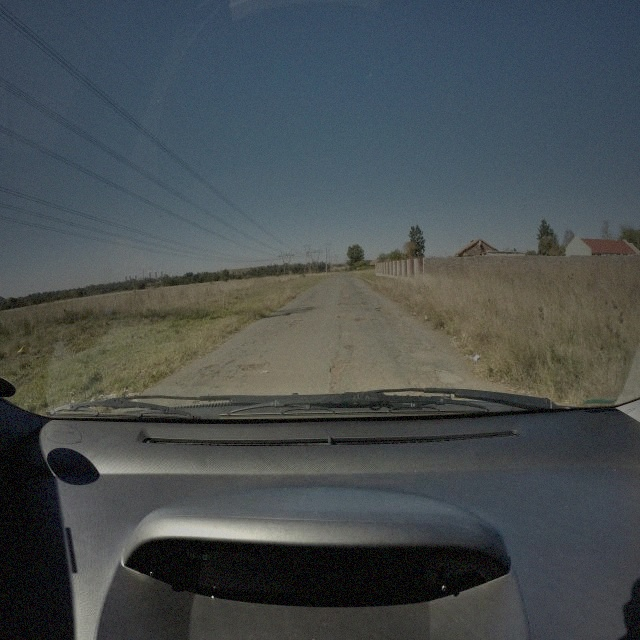pothole: (329, 354, 348, 378), (241, 360, 269, 374), (200, 363, 219, 374), (290, 317, 301, 328), (338, 300, 353, 308), (403, 326, 412, 336), (344, 343, 355, 351), (354, 317, 365, 325), (391, 315, 400, 322), (337, 314, 346, 320), (362, 300, 369, 307), (375, 306, 381, 313)
